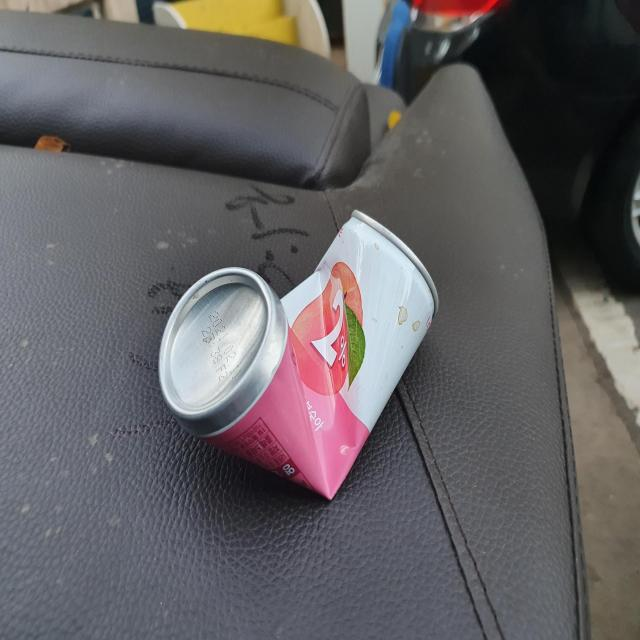can: (158, 209, 439, 499)
